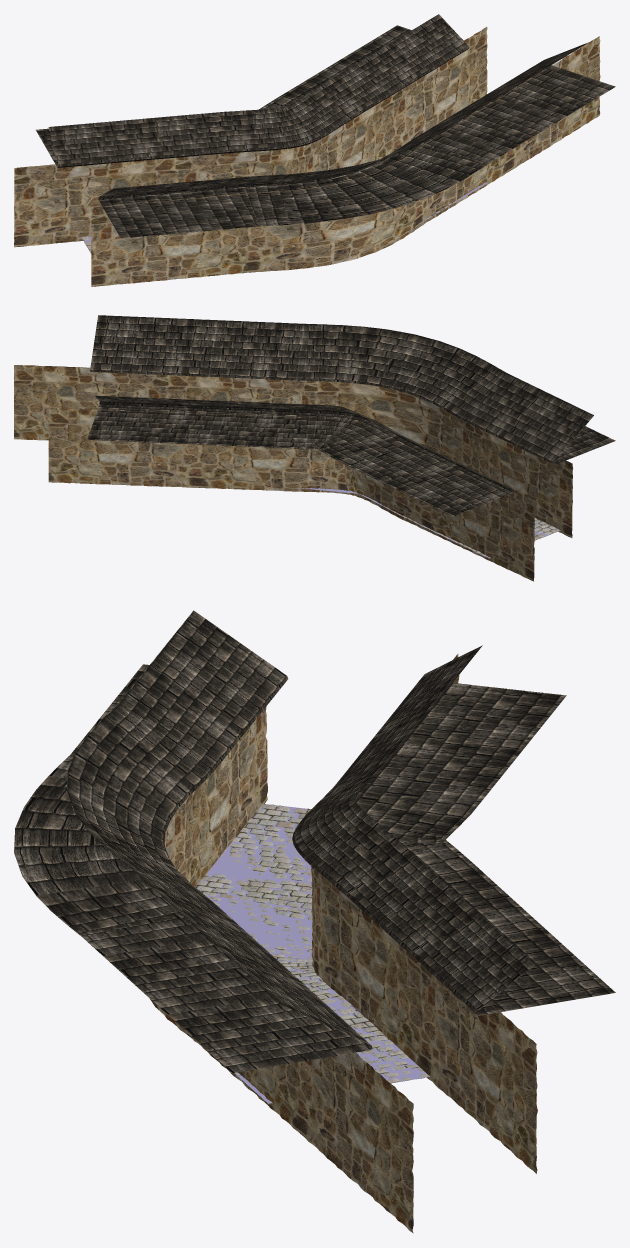
File: street.obj
The picture shows the model from 3 angles, top to bottom: view 1: azimuth 30°, elevation 25°; view 2: azimuth 150°, elevation 25°; view 3: azimuth 270°, elevation 25°; orthographic projection. The views are drawn at different scales.
Visible parts, largest first — view 1: roof_left_Plane.008, house_right_Plane.005, roof_right_Plane.007, house_left_Plane.004; view 2: roof_left_Plane.008, house_right_Plane.005, house_left_Plane.004, roof_right_Plane.007, street_Plane; view 3: roof_left_Plane.008, roof_right_Plane.007, house_right_Plane.005, house_left_Plane.004, street_Plane, water_Plane.003.
Boxes of the visible parts, left/top/right/bottom form: roof_left_Plane.008: left=98, top=42, right=615, bottom=238; house_right_Plane.005: left=14, top=27, right=487, bottom=247; roof_right_Plane.007: left=36, top=14, right=468, bottom=167; house_left_Plane.004: left=91, top=36, right=600, bottom=286; roof_left_Plane.008: left=90, top=315, right=615, bottom=464; house_right_Plane.005: left=48, top=408, right=534, bottom=581; house_left_Plane.004: left=14, top=365, right=573, bottom=537; roof_right_Plane.007: left=87, top=395, right=514, bottom=516; street_Plane: left=345, top=490, right=559, bottom=557; roof_left_Plane.008: left=14, top=610, right=372, bottom=1073; roof_right_Plane.007: left=292, top=645, right=615, bottom=1015; house_right_Plane.005: left=311, top=653, right=537, bottom=1173; house_left_Plane.004: left=150, top=706, right=413, bottom=1233; street_Plane: left=195, top=804, right=429, bottom=1103; water_Plane.003: left=200, top=804, right=429, bottom=1103.
Bounding box in the file's own units: 175 × 34.86 × 97.66.
